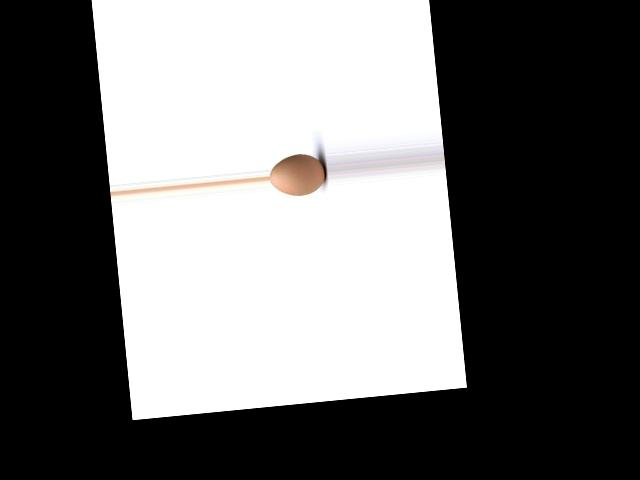egg: (268, 152, 327, 198)
